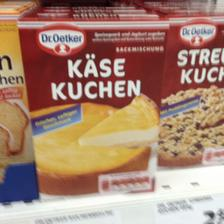Kuchen: (18, 12, 162, 202), (155, 9, 223, 169)
